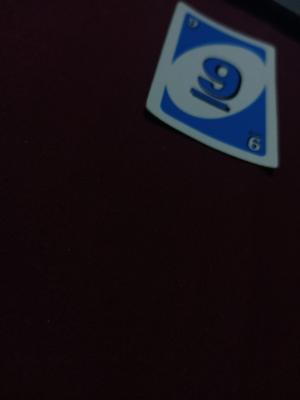blue: (178, 26, 260, 137)
